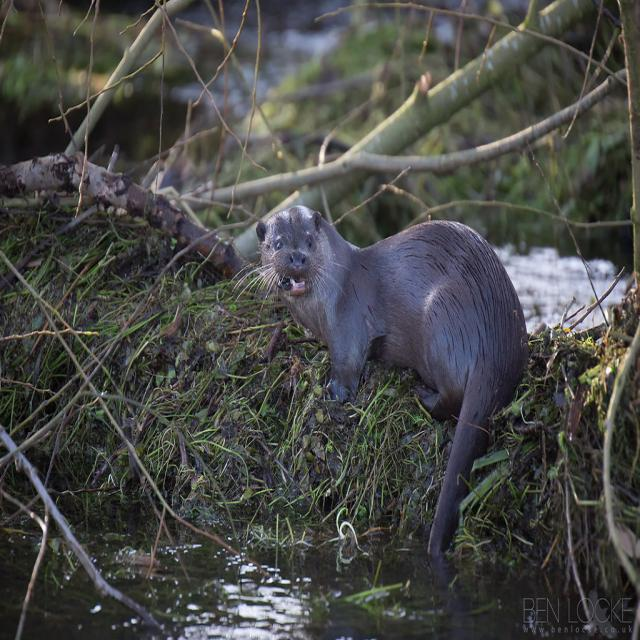otter: (261, 207, 526, 415)
